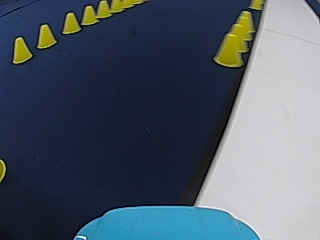cone: (212, 21, 246, 66), (234, 10, 255, 39), (11, 35, 31, 63), (36, 23, 56, 48), (61, 11, 80, 34), (81, 5, 97, 25), (96, 0, 110, 18)
